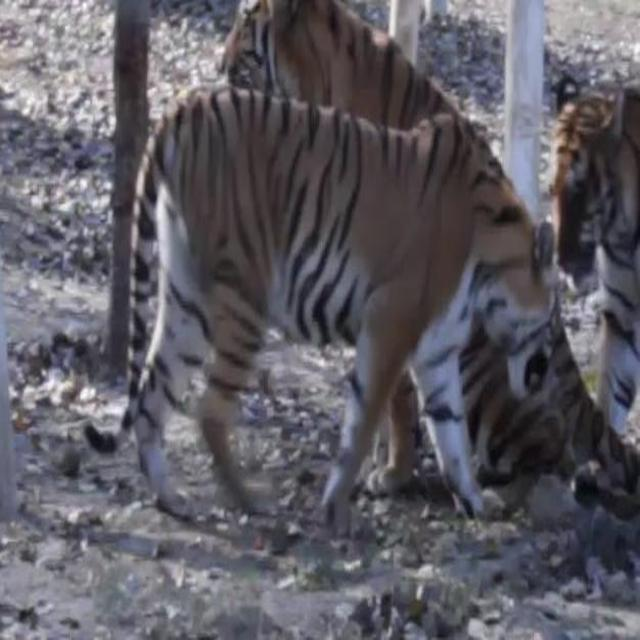tiger: (65, 62, 571, 540), (217, 0, 568, 534), (534, 67, 640, 540)
